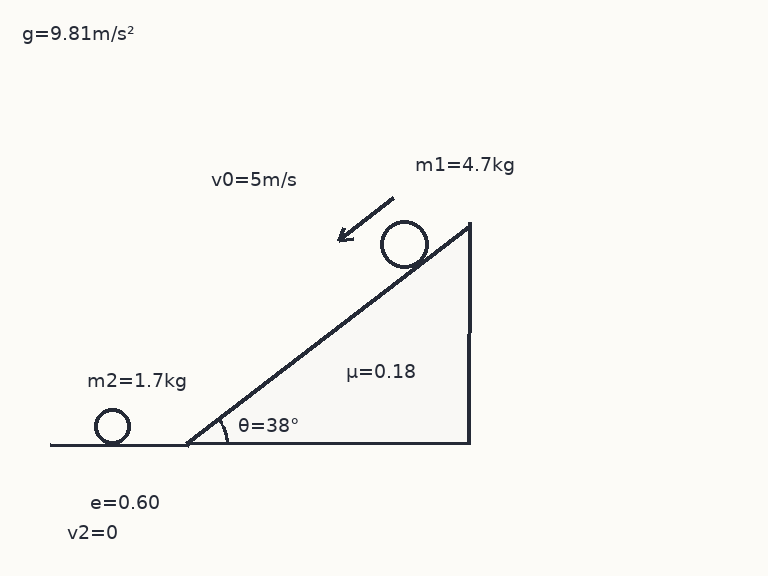ball: (378, 218, 430, 270), (92, 406, 132, 446)
ramp: (185, 222, 471, 446)
